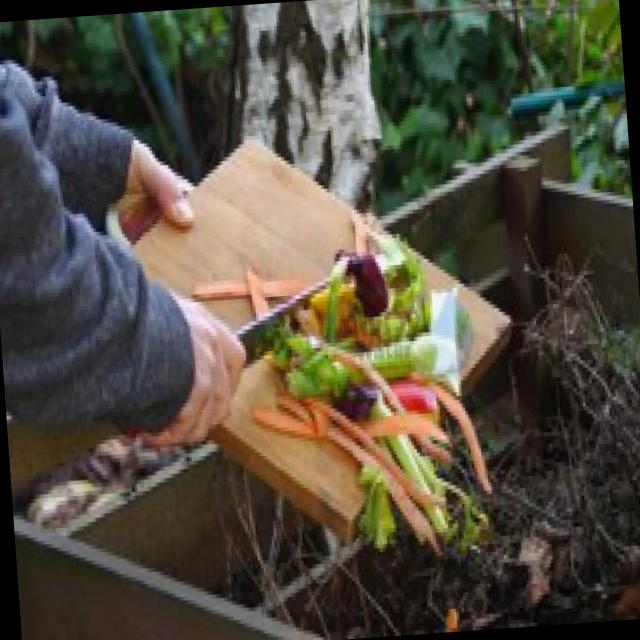paper: (268, 372, 448, 552), (560, 308, 640, 483)
